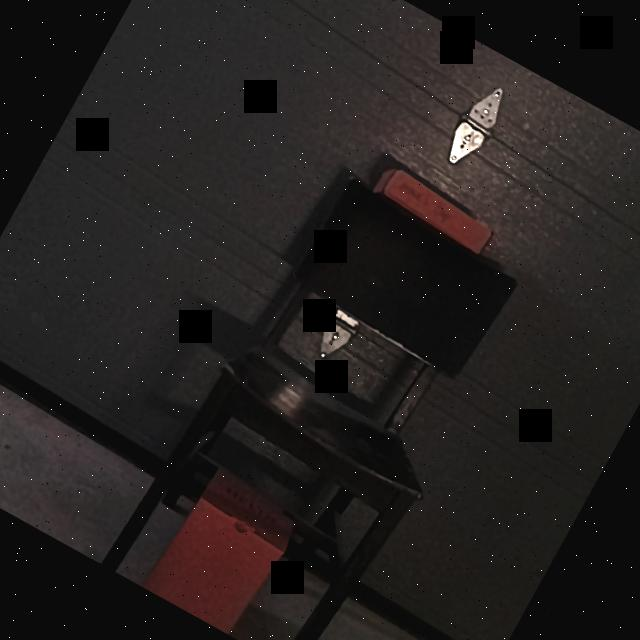box: (148, 496, 285, 638), (381, 174, 494, 252)
